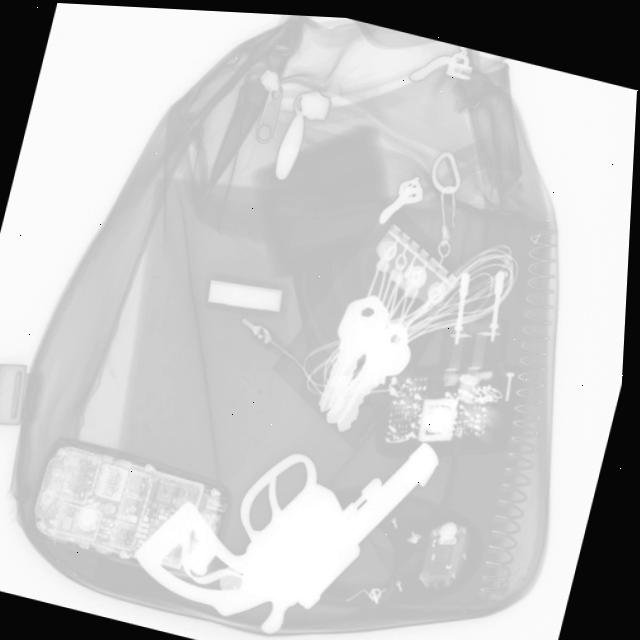grenade: (4, 425, 250, 600)
